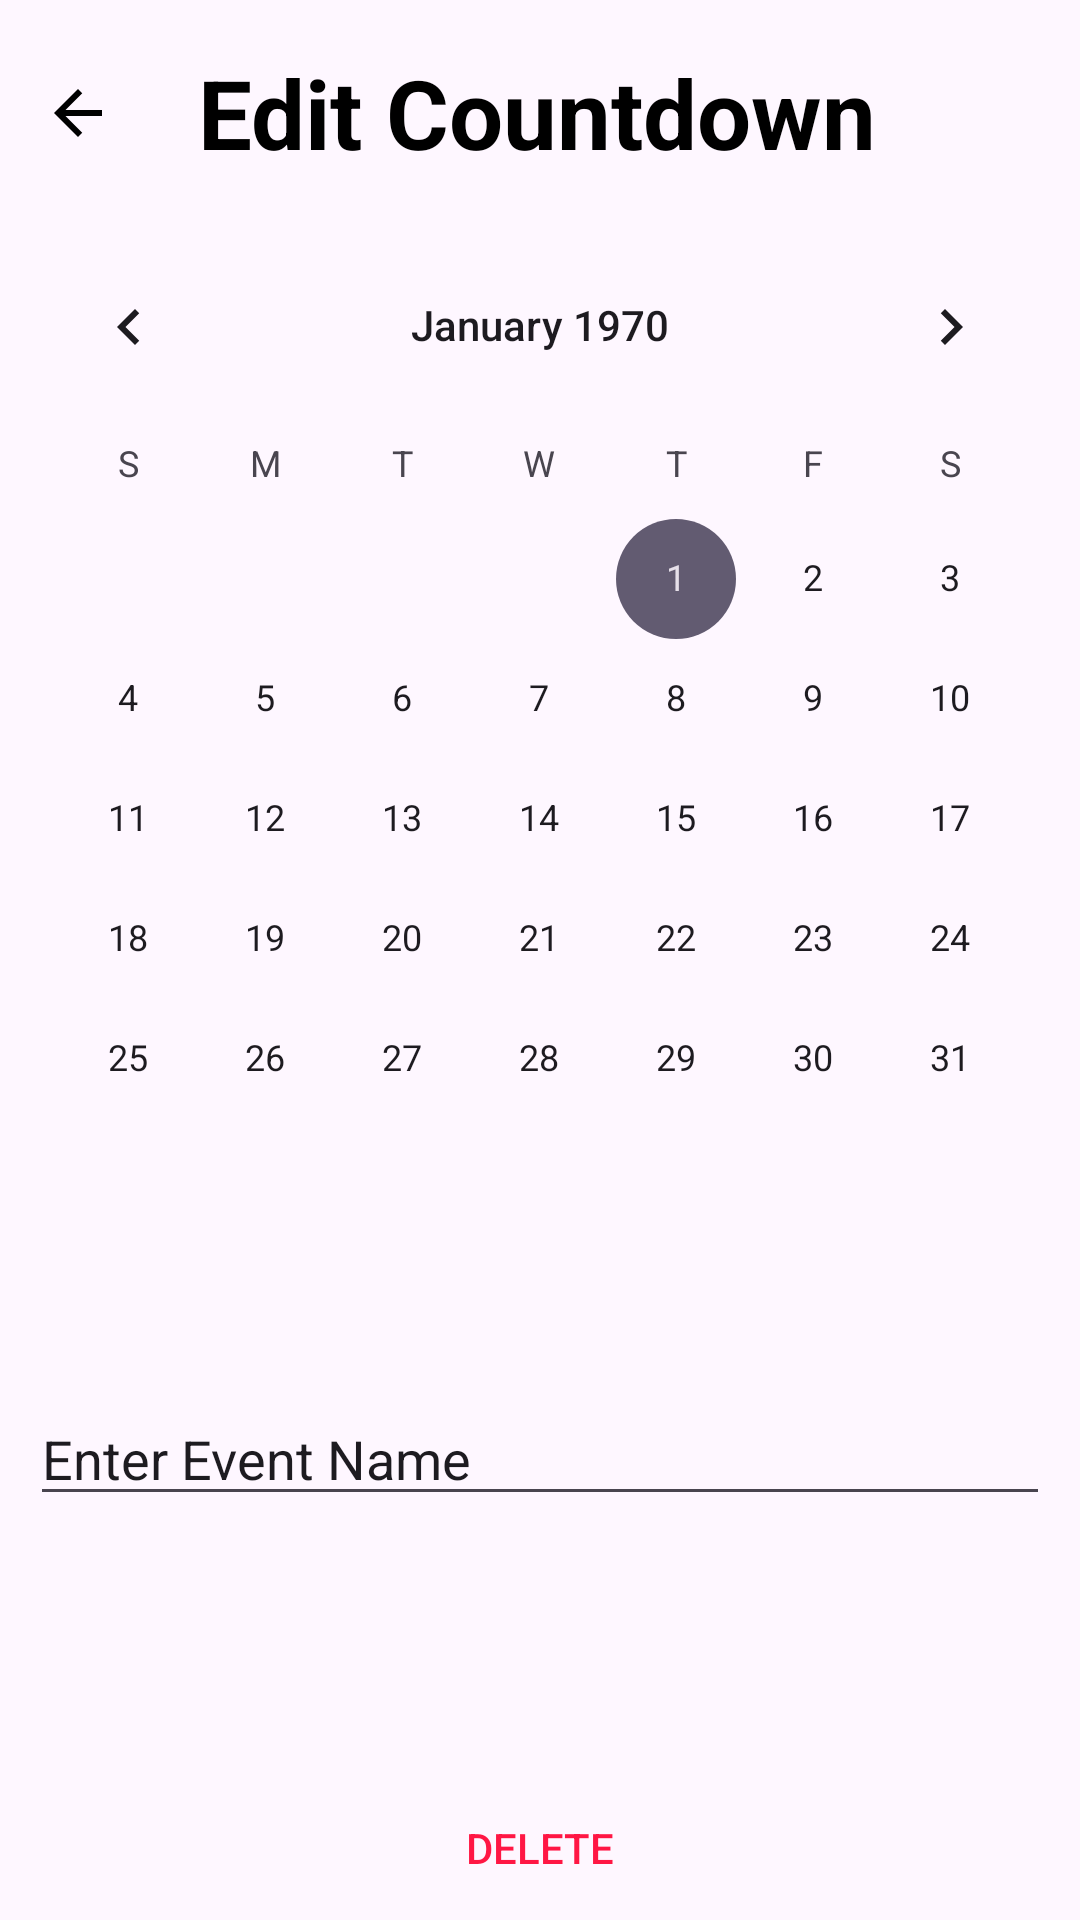

Icons on this 1080x1920 Android screen, each with its box as box(x1, y1, x2, y2):
Back Button: box(54, 89, 102, 137)
